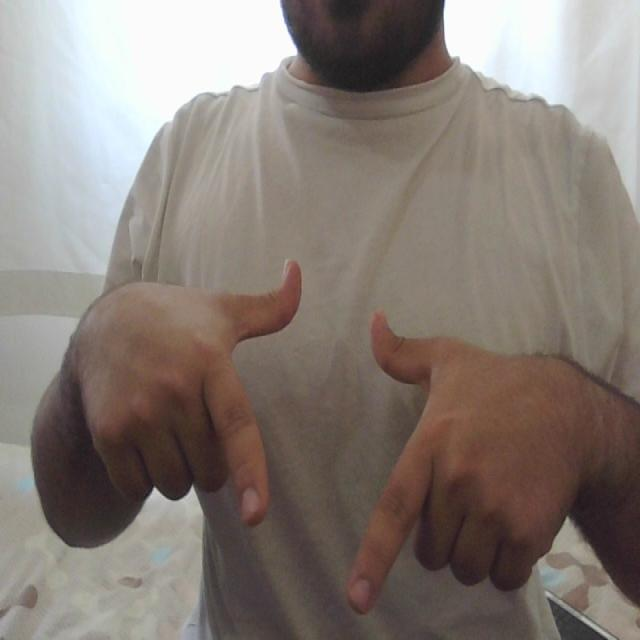Nerede: (175, 256, 499, 616)
